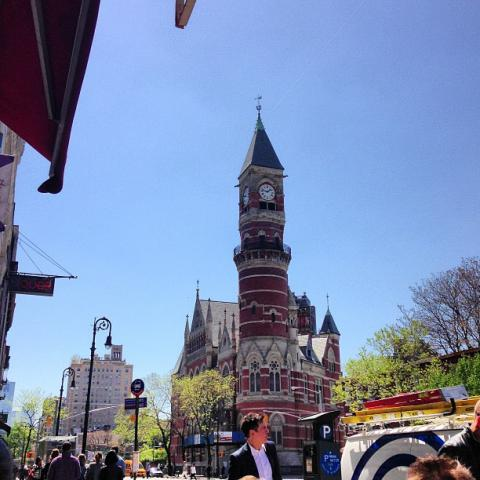car: (150, 468, 163, 478)
